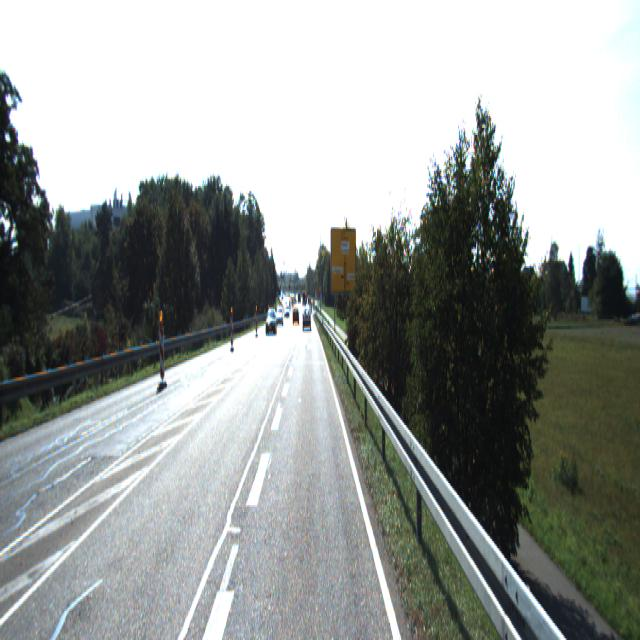Car: (266, 308, 277, 336), (303, 306, 311, 328)
DontCare: (277, 295, 301, 334)
